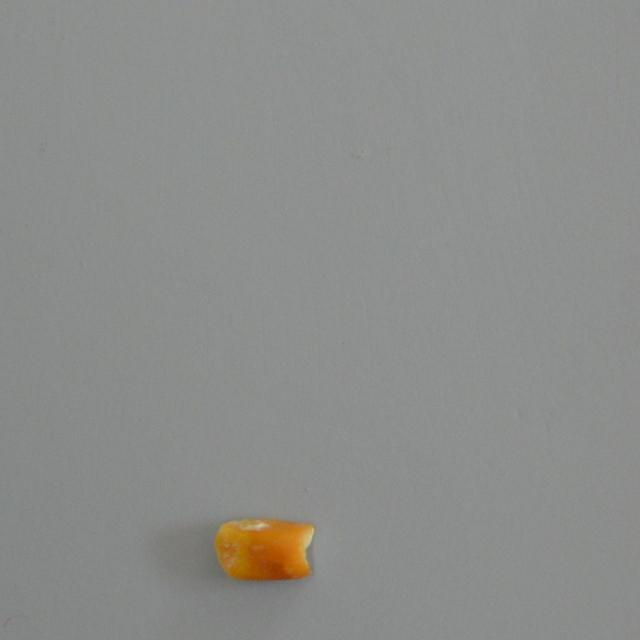dañado: (202, 502, 324, 587)
